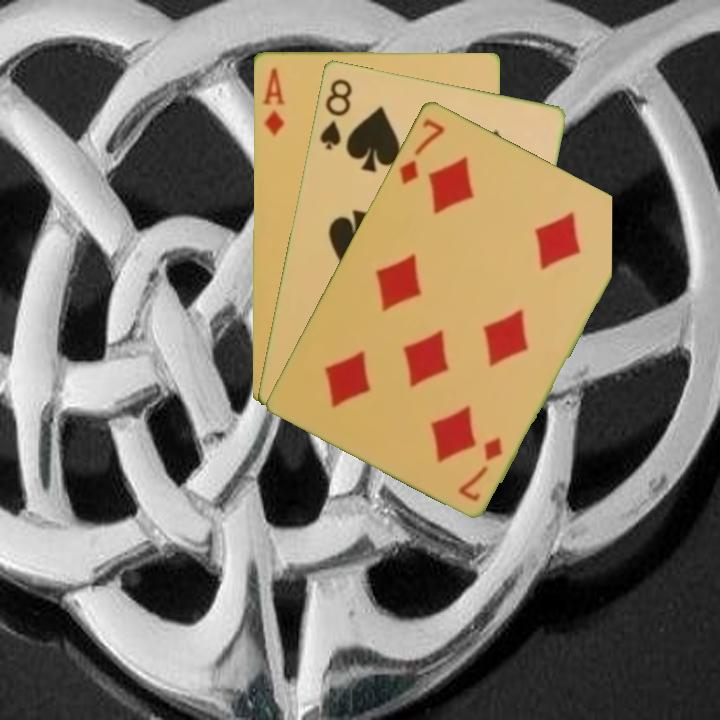7d: (395, 114, 448, 187), (454, 432, 505, 504)
8s: (316, 75, 355, 152)
Ad: (258, 64, 287, 139)
